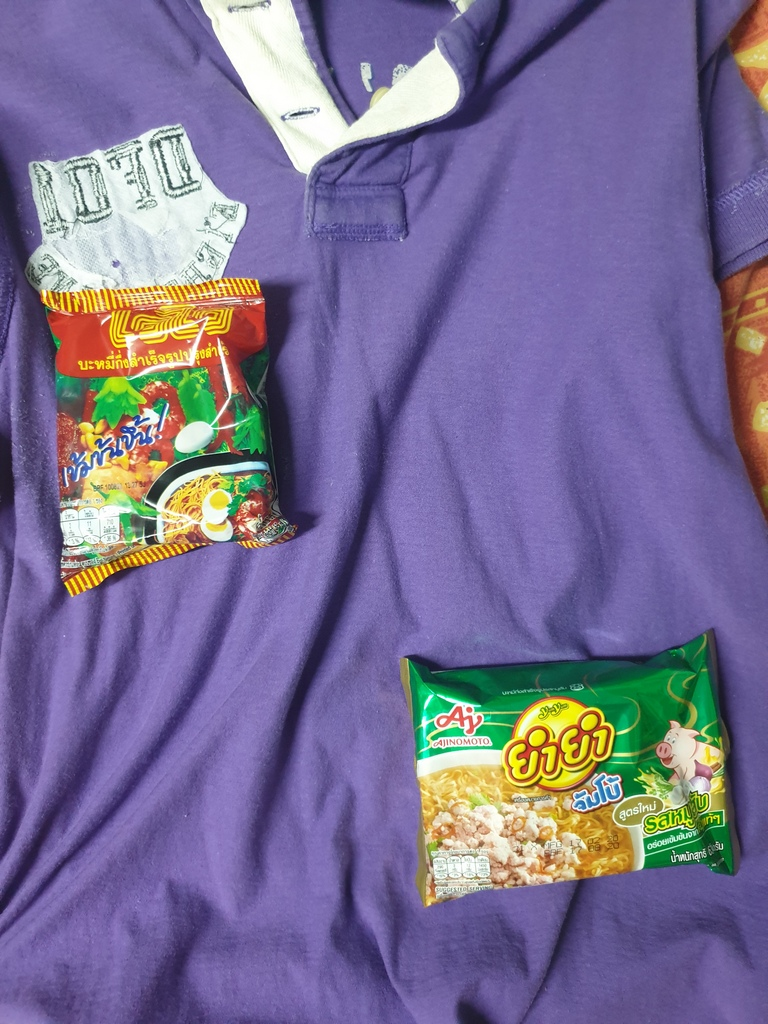waiwai: (36, 287, 317, 574)
yumyum: (390, 643, 745, 889)
